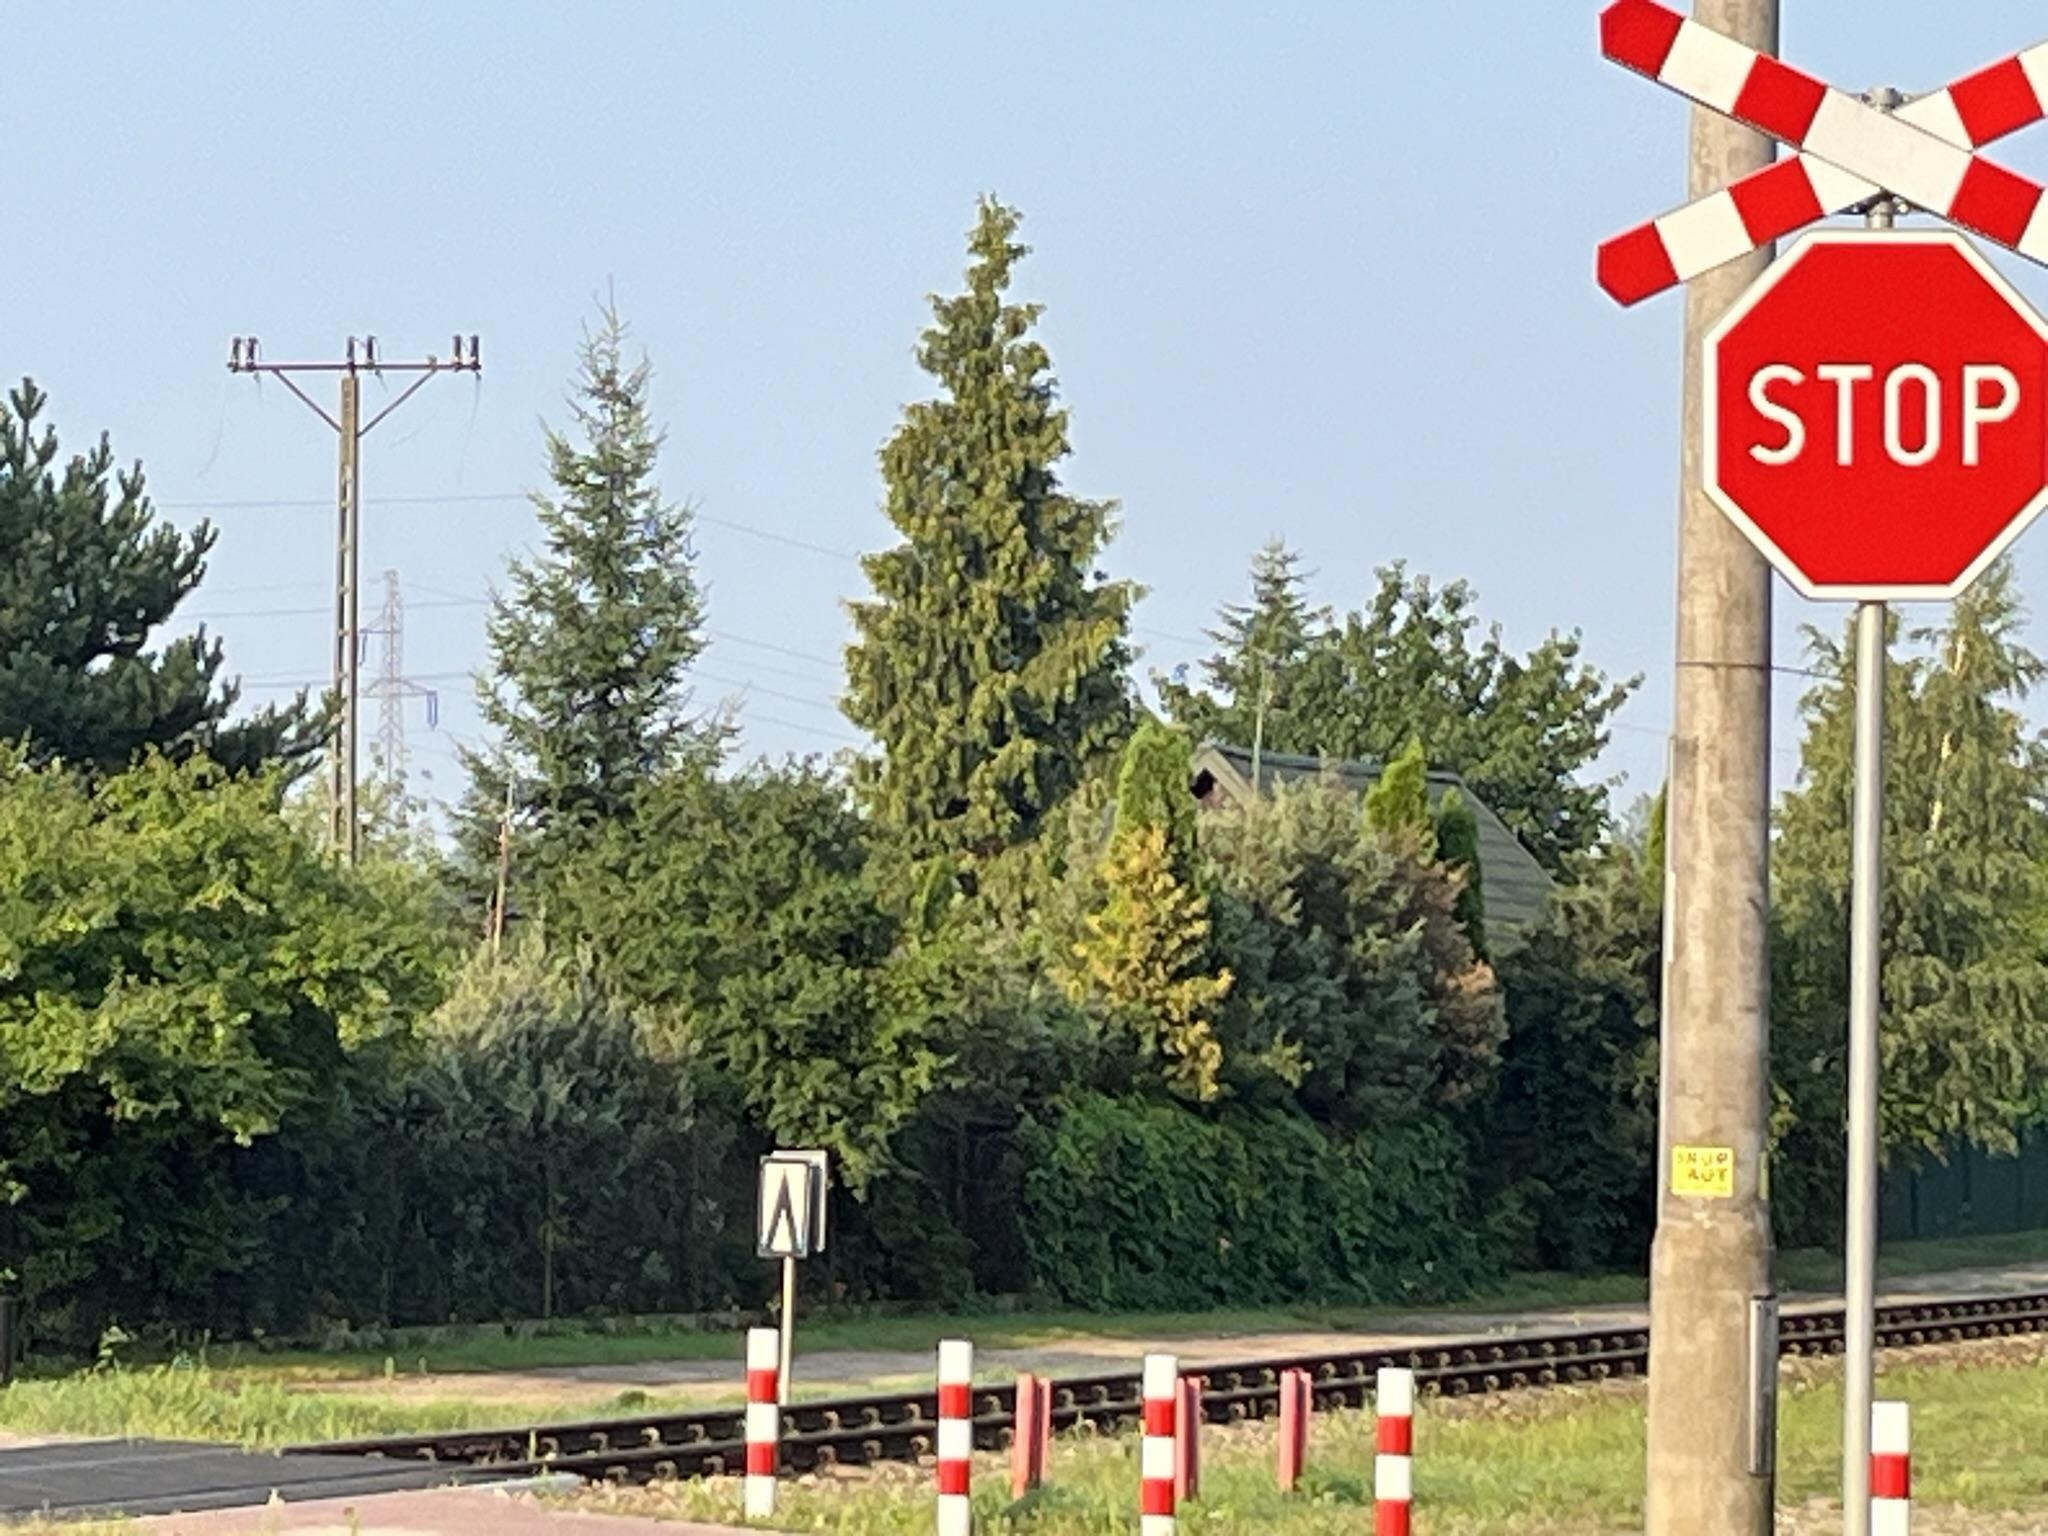prohibitory: (1705, 231, 2048, 603)
